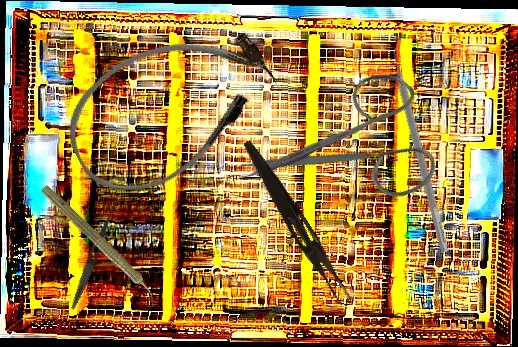Cannula: (47, 1, 294, 215)
Dressing Forceps: (234, 137, 358, 307), (68, 194, 121, 312)
Handpiece: (36, 182, 166, 309)
Iris Scissors: (232, 31, 470, 272)
Spatula Surgical: (384, 40, 459, 254)
